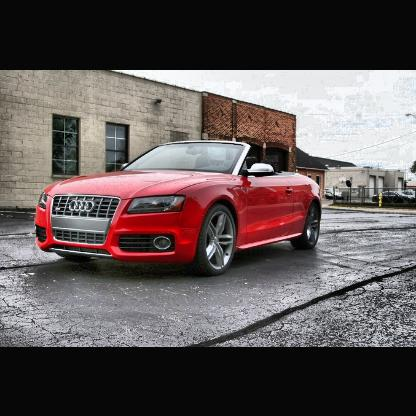Audi S5 Convertible 2012: (35, 140, 322, 273)
